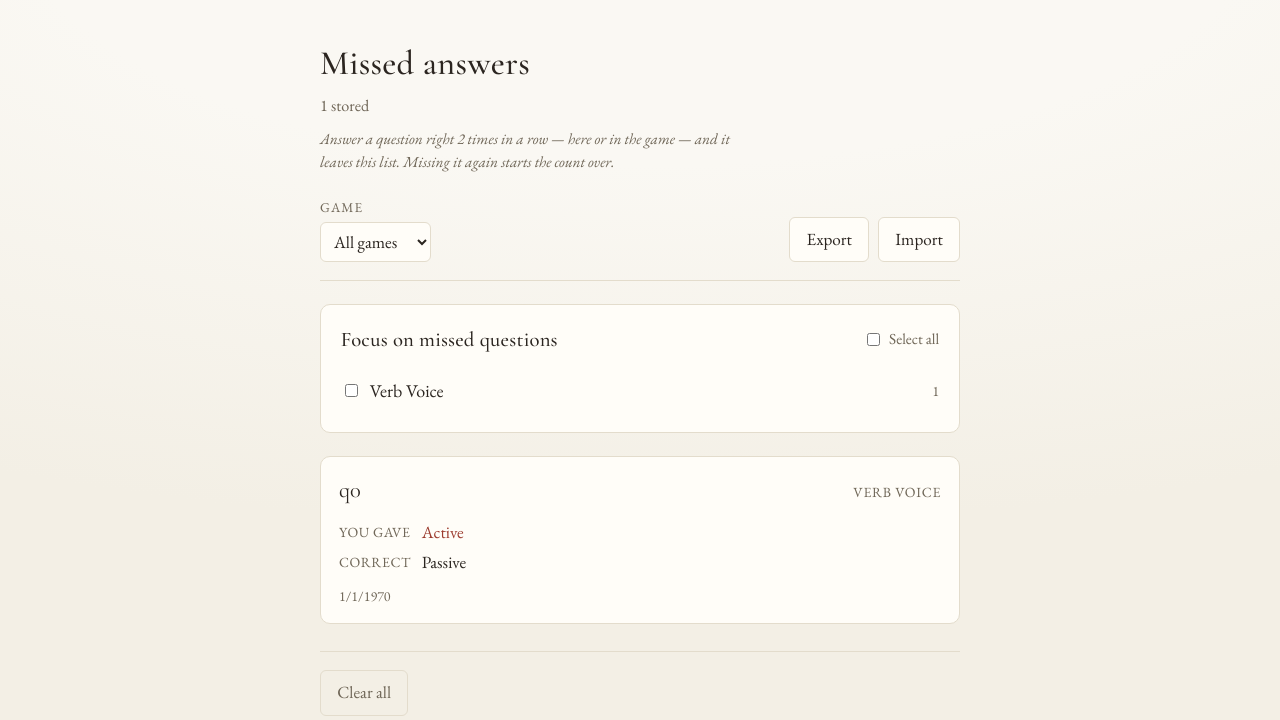
Test: Review › keeps everything when Clear all is clicked but not confirmed
Click the button "Clear all" at (364, 693), box [320,670,408,716]
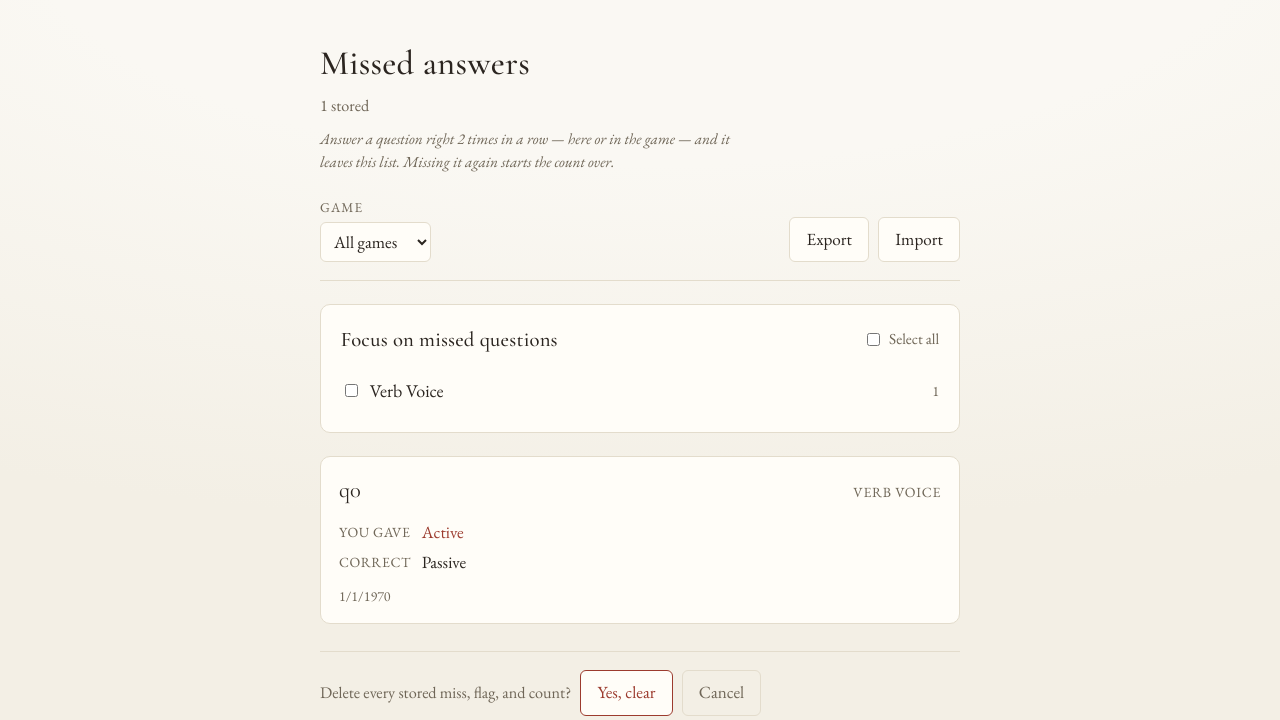
Expected: the text with class "review__confirm" shows "Delete every stored miss", [320,682,571,703]
